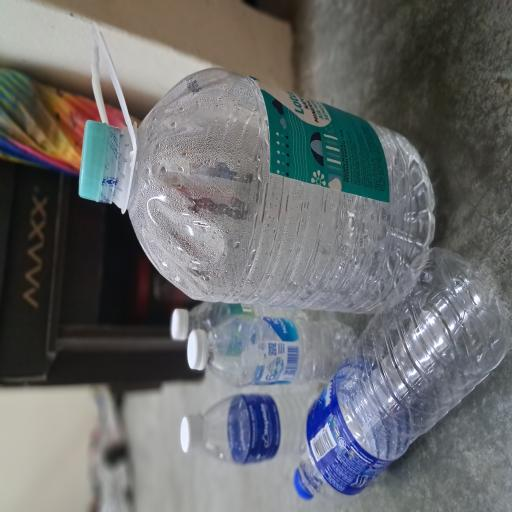plastic bottle: (149, 152, 334, 512), (13, 400, 200, 512), (93, 273, 145, 474), (36, 266, 89, 430), (130, 252, 158, 410)
plastic bottle cap: (232, 103, 294, 148), (106, 249, 138, 276), (9, 391, 33, 417), (45, 240, 71, 263), (128, 228, 153, 250)
